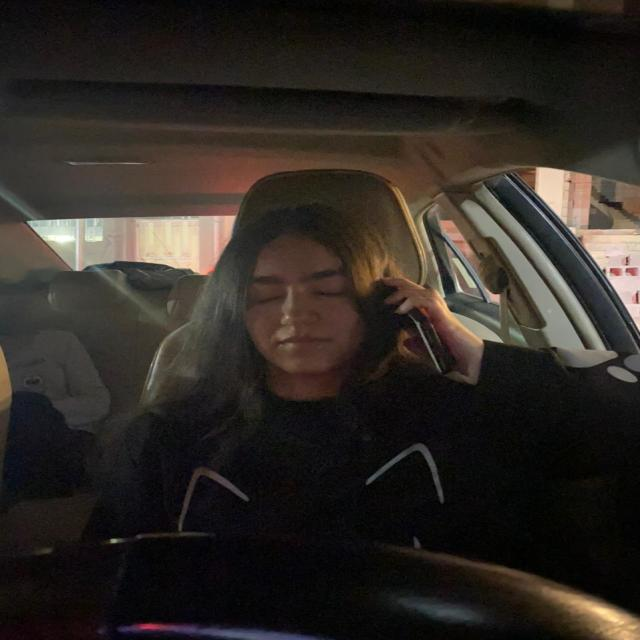mobile: (392, 295, 459, 385)
person: (223, 200, 396, 390)
